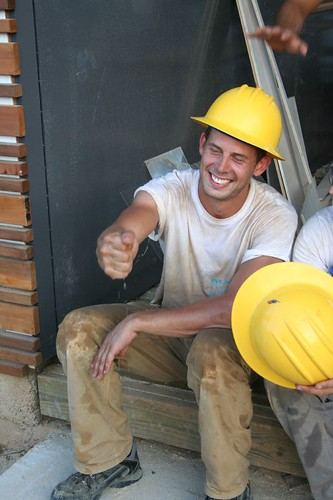hardhat: (227, 258, 333, 401)
person hardhat: (56, 73, 273, 500)
